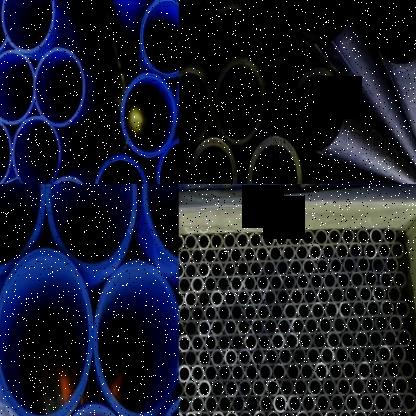pipe: (0, 247, 93, 416), (95, 260, 179, 416), (46, 184, 138, 270), (213, 56, 266, 148), (121, 73, 177, 157), (291, 67, 343, 151), (34, 47, 85, 127), (0, 184, 44, 274), (246, 0, 298, 67), (12, 116, 60, 184), (141, 184, 179, 269), (206, 3, 250, 72), (139, 0, 178, 77), (0, 0, 54, 54), (288, 0, 354, 44), (372, 0, 416, 65), (179, 65, 212, 149), (246, 135, 301, 184), (0, 49, 34, 124), (187, 138, 237, 184), (93, 156, 148, 184), (157, 137, 179, 184), (0, 115, 11, 184), (158, 390, 179, 416), (36, 0, 72, 14), (0, 0, 7, 57), (344, 392, 360, 414), (359, 392, 374, 414), (301, 394, 317, 414), (336, 376, 352, 396), (330, 393, 345, 414), (365, 376, 380, 397), (190, 395, 205, 415), (217, 394, 232, 414), (231, 394, 246, 414), (245, 394, 260, 414), (401, 392, 416, 412), (197, 379, 212, 399), (224, 379, 239, 399), (279, 378, 294, 398), (379, 376, 394, 396), (394, 376, 409, 396), (244, 362, 259, 382), (300, 362, 315, 382), (342, 361, 357, 381), (357, 360, 372, 380), (371, 360, 386, 380), (399, 360, 414, 380), (326, 330, 341, 350), (354, 330, 369, 350), (304, 316, 319, 336), (338, 300, 353, 320), (344, 284, 359, 304), (229, 274, 244, 294), (262, 258, 277, 278), (316, 393, 330, 414), (374, 392, 388, 413), (388, 392, 402, 413), (184, 379, 198, 400), (322, 377, 336, 398), (383, 328, 397, 349), (397, 328, 411, 349), (251, 379, 266, 398), (385, 360, 400, 379), (278, 347, 293, 366), (292, 347, 307, 366), (334, 346, 349, 365), (377, 345, 392, 364), (284, 332, 299, 351), (340, 330, 355, 349), (210, 318, 225, 337), (277, 317, 292, 336), (318, 316, 333, 335), (346, 315, 361, 334), (374, 314, 389, 333), (388, 314, 403, 333), (283, 302, 298, 321), (324, 301, 339, 320), (380, 299, 395, 318), (303, 287, 318, 306), (269, 273, 284, 292), (282, 272, 297, 291), (392, 271, 407, 290), (350, 270, 365, 289), (364, 269, 379, 288), (329, 256, 344, 275), (371, 256, 386, 275), (342, 256, 357, 275), (204, 394, 218, 414), (259, 394, 273, 414), (273, 394, 287, 414), (287, 394, 301, 414), (266, 378, 280, 398), (294, 378, 308, 398), (308, 378, 322, 398), (351, 376, 365, 396), (231, 362, 245, 382), (258, 362, 272, 382), (272, 362, 286, 382), (286, 362, 300, 382), (314, 362, 328, 382), (251, 347, 265, 367), (306, 346, 320, 366), (320, 346, 334, 366), (391, 344, 405, 364), (244, 332, 258, 352), (271, 332, 285, 352), (197, 318, 211, 338), (291, 316, 305, 336), (270, 302, 284, 322), (317, 286, 331, 306), (358, 284, 372, 304), (210, 260, 224, 280), (275, 258, 289, 278), (308, 242, 322, 262), (328, 362, 343, 380), (210, 349, 225, 367), (237, 348, 252, 366), (332, 316, 347, 334), (310, 302, 325, 320), (276, 288, 291, 306), (289, 288, 304, 306), (235, 260, 250, 278), (302, 258, 317, 276), (238, 379, 252, 398), (184, 349, 198, 368), (224, 349, 238, 368), (349, 346, 363, 365), (298, 331, 312, 350), (313, 331, 327, 350), (184, 319, 198, 338), (361, 314, 375, 333), (395, 300, 409, 319), (366, 299, 380, 318), (330, 286, 344, 305), (387, 286, 401, 305), (372, 284, 386, 303), (243, 274, 257, 293), (256, 273, 270, 292), (296, 272, 310, 291), (323, 271, 337, 290), (379, 271, 393, 290), (337, 270, 351, 289), (223, 260, 237, 279), (249, 259, 263, 278), (289, 258, 303, 277), (315, 256, 329, 275), (385, 256, 399, 275), (356, 255, 370, 274), (242, 245, 256, 264), (258, 332, 271, 352), (191, 304, 204, 324), (250, 288, 263, 308), (211, 380, 225, 398), (204, 364, 218, 382), (217, 364, 231, 382), (265, 348, 279, 366), (363, 346, 377, 364), (217, 334, 231, 352), (369, 330, 383, 348), (237, 318, 251, 336), (250, 318, 264, 336), (297, 302, 311, 320), (352, 300, 366, 318), (197, 290, 211, 308), (210, 290, 224, 308), (309, 272, 323, 290), (184, 262, 198, 280), (197, 261, 211, 279), (282, 244, 296, 262), (363, 242, 377, 260), (377, 242, 391, 260), (390, 241, 404, 259), (184, 233, 198, 251), (197, 232, 211, 250), (223, 232, 237, 250), (248, 232, 262, 250), (328, 228, 342, 246), (383, 227, 397, 245), (191, 364, 204, 383), (198, 349, 211, 368), (191, 334, 204, 353), (231, 333, 244, 352), (224, 318, 237, 337), (264, 317, 277, 336), (204, 304, 217, 323), (244, 303, 257, 322), (257, 303, 270, 322), (185, 290, 198, 309), (263, 288, 276, 307), (204, 275, 217, 294), (217, 275, 230, 294), (191, 247, 204, 266), (204, 247, 217, 266), (256, 245, 269, 264), (269, 244, 282, 263), (295, 243, 308, 262), (322, 242, 335, 261), (262, 230, 275, 249), (370, 226, 383, 245), (179, 394, 191, 414), (204, 334, 217, 352), (217, 304, 230, 322), (230, 304, 243, 322), (237, 289, 250, 307), (191, 276, 204, 294), (230, 246, 243, 264), (336, 242, 349, 260), (349, 242, 362, 260), (210, 232, 223, 250), (236, 232, 249, 250), (275, 230, 288, 248), (289, 230, 302, 248), (302, 230, 315, 248), (356, 228, 369, 246), (224, 289, 236, 308), (179, 247, 191, 266), (217, 246, 229, 265), (315, 228, 327, 247), (179, 334, 191, 352), (179, 276, 191, 294), (342, 227, 354, 245), (179, 304, 190, 323), (179, 364, 190, 382), (381, 407, 396, 416), (308, 408, 323, 416), (338, 408, 353, 416), (352, 408, 367, 416), (366, 408, 381, 416), (324, 408, 338, 416), (396, 408, 410, 416), (179, 233, 185, 251), (251, 409, 266, 416), (266, 409, 281, 416), (294, 409, 309, 416), (224, 409, 238, 416), (238, 409, 252, 416), (280, 409, 294, 416), (179, 349, 184, 368), (179, 290, 184, 309), (211, 409, 224, 416), (179, 380, 184, 398), (179, 320, 184, 338), (179, 262, 184, 280), (183, 411, 197, 416), (197, 411, 211, 416)
